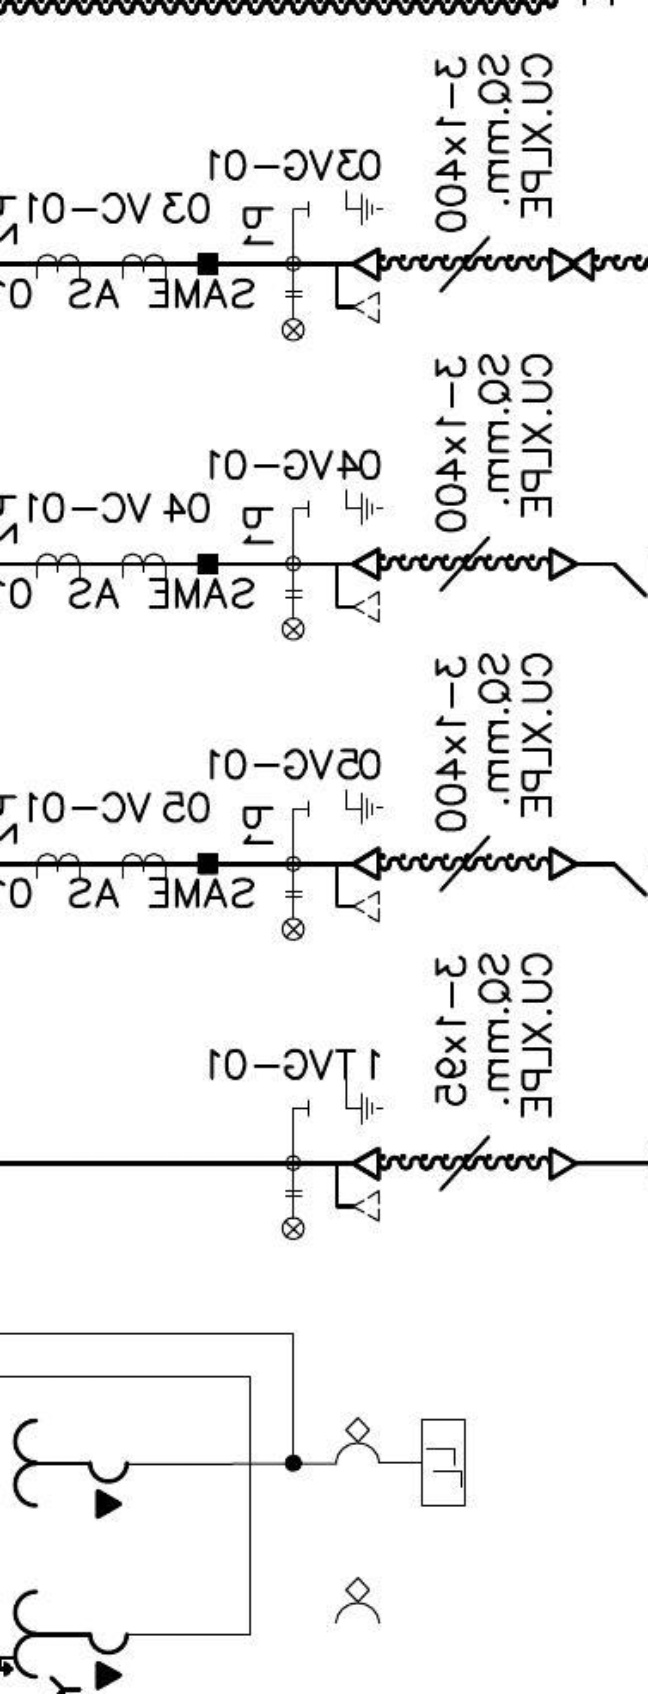22_gs: (305, 1077, 383, 1125), (305, 187, 383, 227), (305, 487, 383, 527), (305, 786, 383, 824)
22_ll: (280, 588, 306, 642), (280, 888, 306, 942), (280, 1188, 306, 1242), (280, 290, 306, 342)
LL: (419, 1417, 469, 1510)
terminator_single: (546, 844, 579, 883), (546, 1145, 578, 1184), (546, 544, 578, 583)
terminator_splicing_kits: (548, 246, 595, 282)
terminator_w_future: (332, 546, 382, 627), (333, 844, 382, 925), (333, 1143, 382, 1224), (333, 246, 382, 326)
